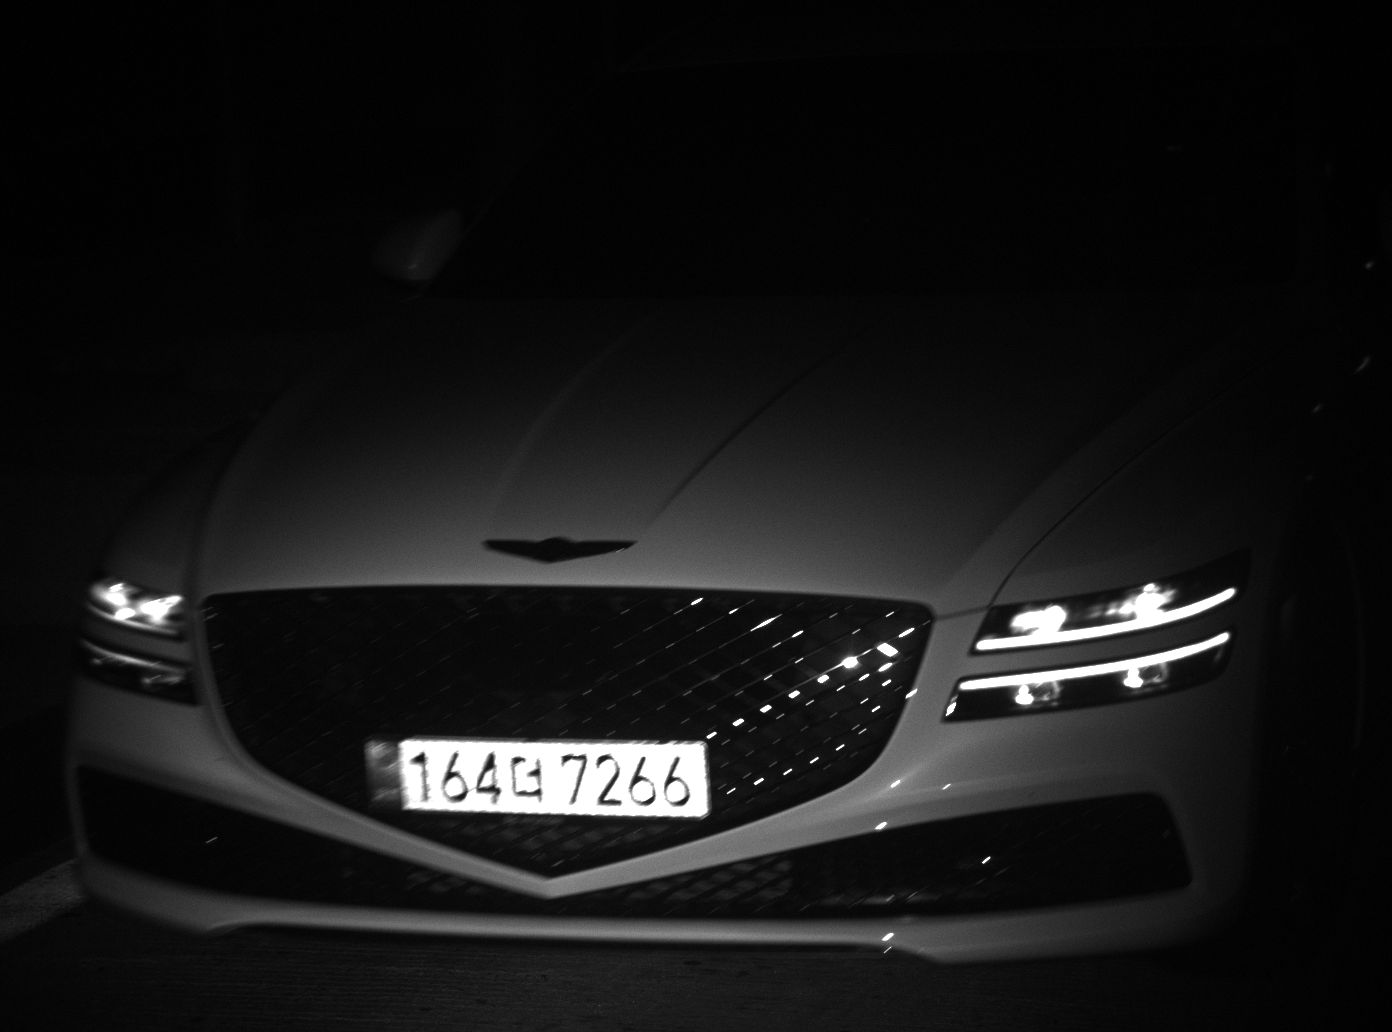car: (57, 1, 1392, 967)
plate: (361, 735, 710, 819)
